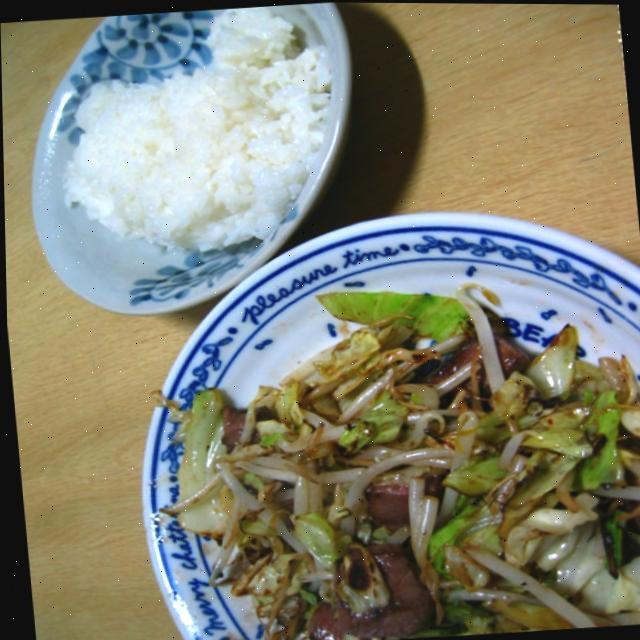蔬菜料理: (168, 248, 640, 640)
